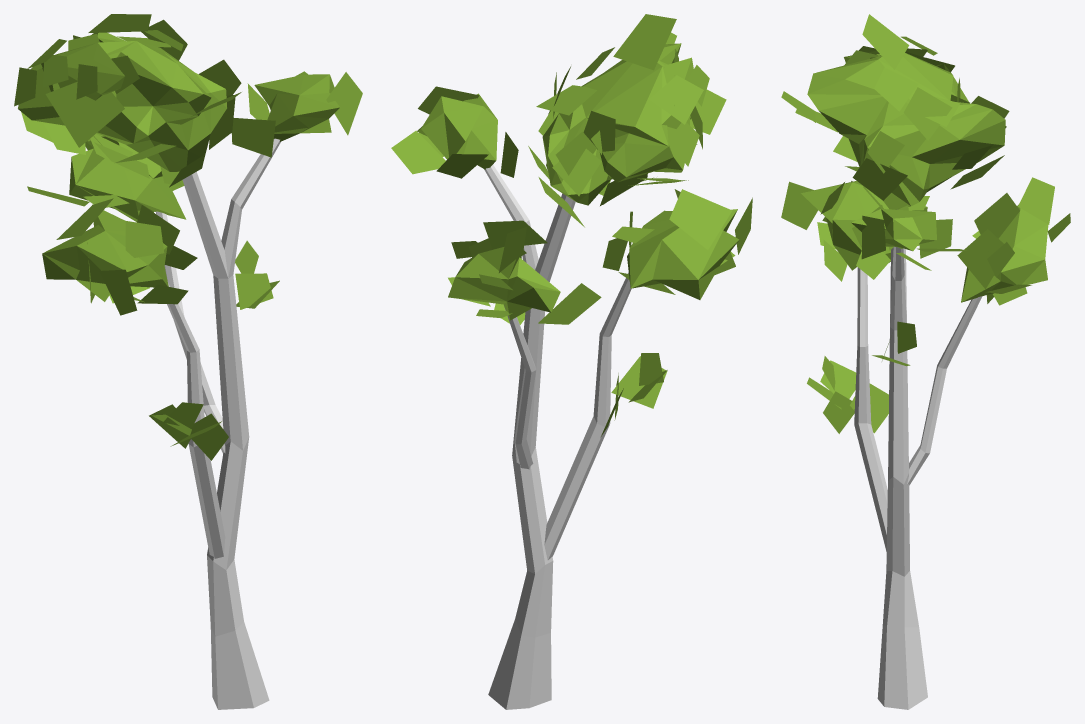
The model's file is SM_Tree_Jungle_Sapling_A.fbx.
3 renders of one model, left to right at view 1: azimuth 30°, elevation 25°; view 2: azimuth 150°, elevation 25°; view 3: azimuth 270°, elevation 25°, orthographic. The views are drawn at different scales.
Visible parts, largest first — view 1: tree-jungle-sapling-a; view 2: tree-jungle-sapling-a; view 3: tree-jungle-sapling-a.
Boxes of the visible parts, bbox=[...] form: tree-jungle-sapling-a: bbox=[14, 14, 362, 709]; tree-jungle-sapling-a: bbox=[391, 14, 752, 709]; tree-jungle-sapling-a: bbox=[781, 14, 1070, 709].
Size of the model in its own units: 0.8252 by 1.83 by 0.7705.
